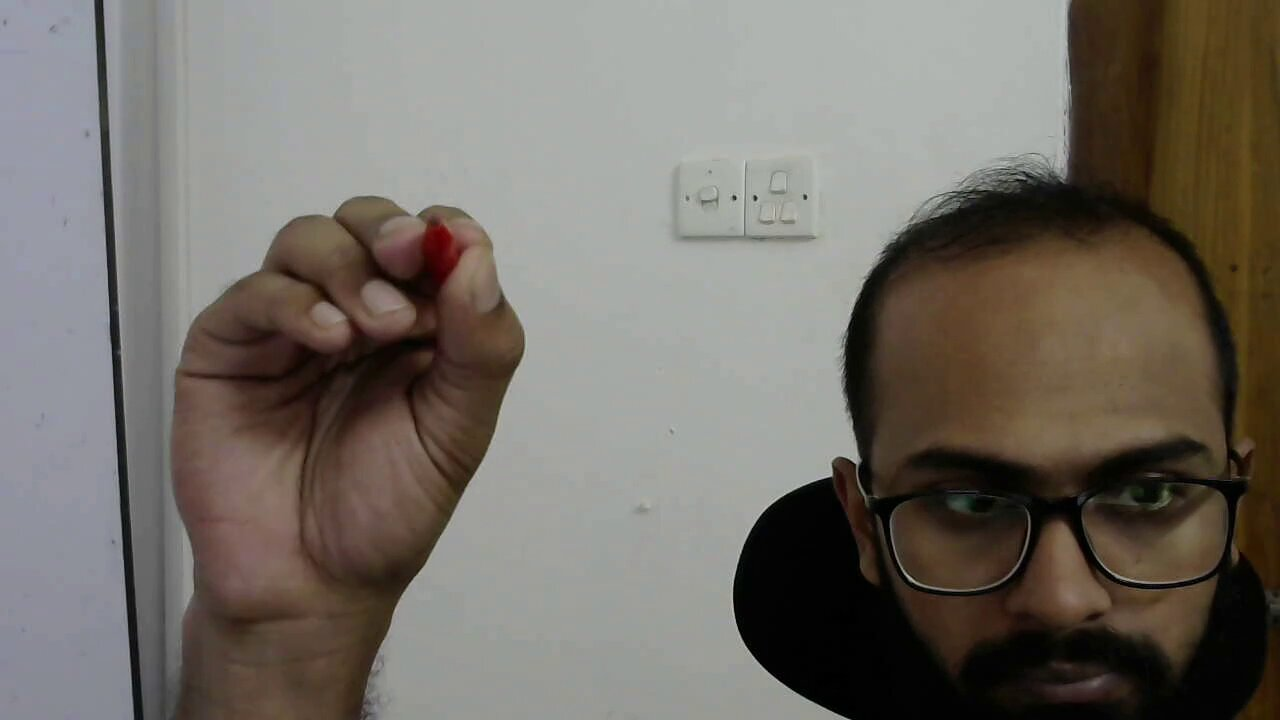pointer: (171, 192, 527, 518)
